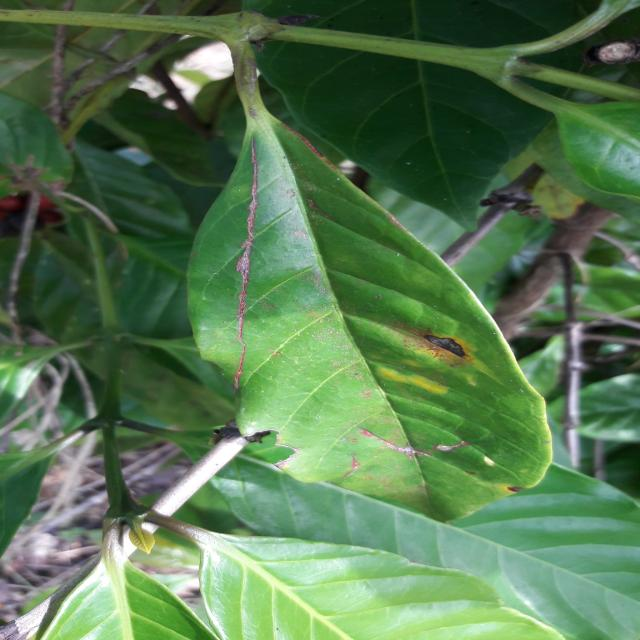Enfermedad-Roya: (186, 80, 554, 525)
